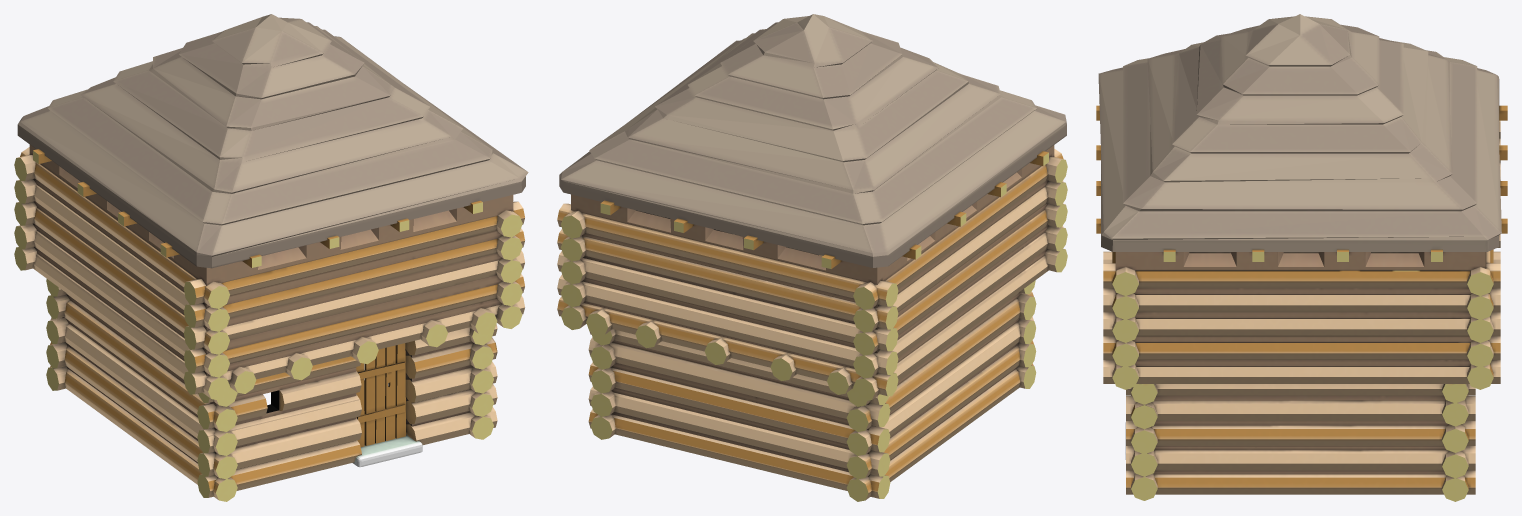
Rendered from Cottage.FBX.
The picture shows the model from 3 angles, left to right: view 1: azimuth 30°, elevation 25°; view 2: azimuth 150°, elevation 25°; view 3: azimuth 270°, elevation 25°; orthographic projection. The views are drawn at different scales.
Visible parts, largest first — view 1: house; view 2: house; view 3: house.
Part boxes in pixels (x1,y1,x2,y2): house: (14,14,528,501); house: (557,14,1067,501); house: (1096,14,1507,501).
Bounding box in the file's own units: 709 × 789 × 709.
Materials: 1 (1 with a texture image).
